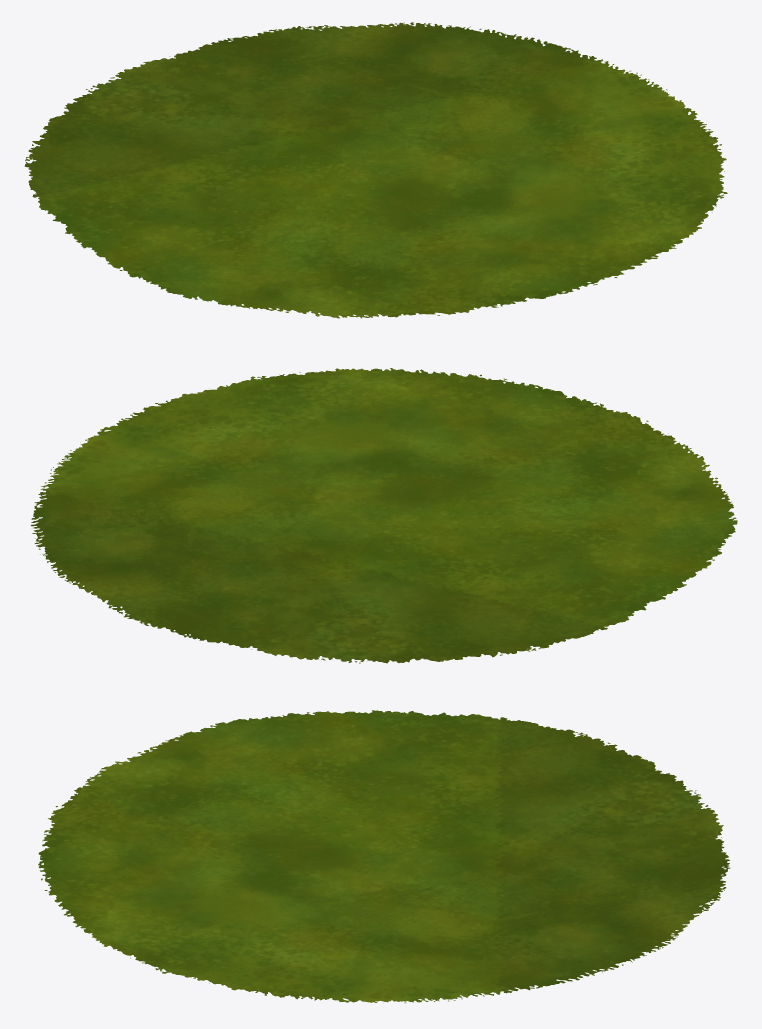
File: ground.fbx
3 renders of one model, top to bottom at view 1: azimuth 30°, elevation 25°; view 2: azimuth 150°, elevation 25°; view 3: azimuth 270°, elevation 25°, orthographic.
Parts seen in each view (by area): view 1: ground; view 2: ground; view 3: ground.
Boxes of the visible parts, x1,y1,x2,y2 form: ground: (24,22,727,318); ground: (31,368,737,663); ground: (38,710,730,1003).
Size of the model in its own units: 84.9 by 5.12e-15 by 83.61.
